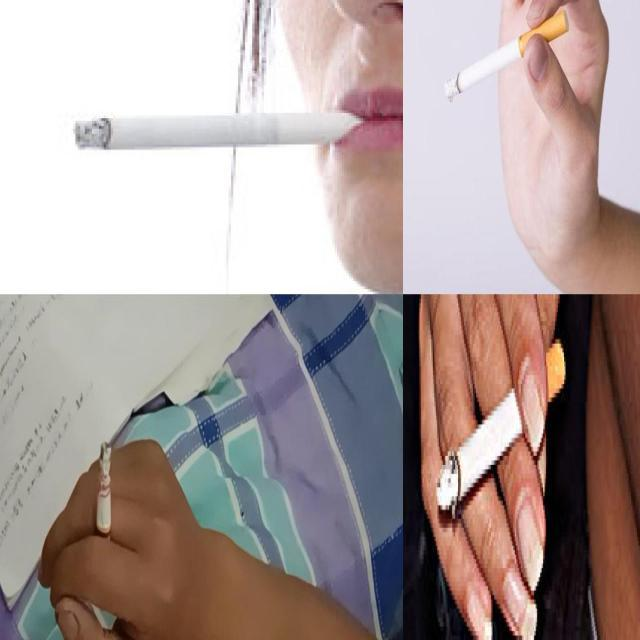smoking: (436, 338, 566, 514), (444, 10, 570, 102), (73, 112, 364, 150), (94, 441, 112, 563)
